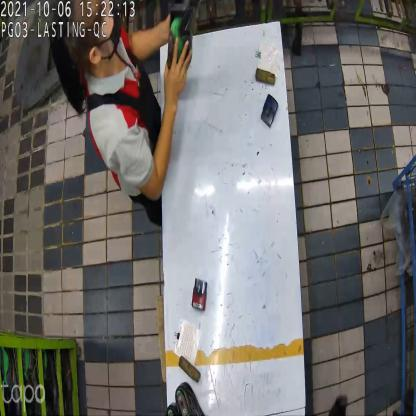stamp: (189, 280, 210, 314), (259, 95, 278, 129)
